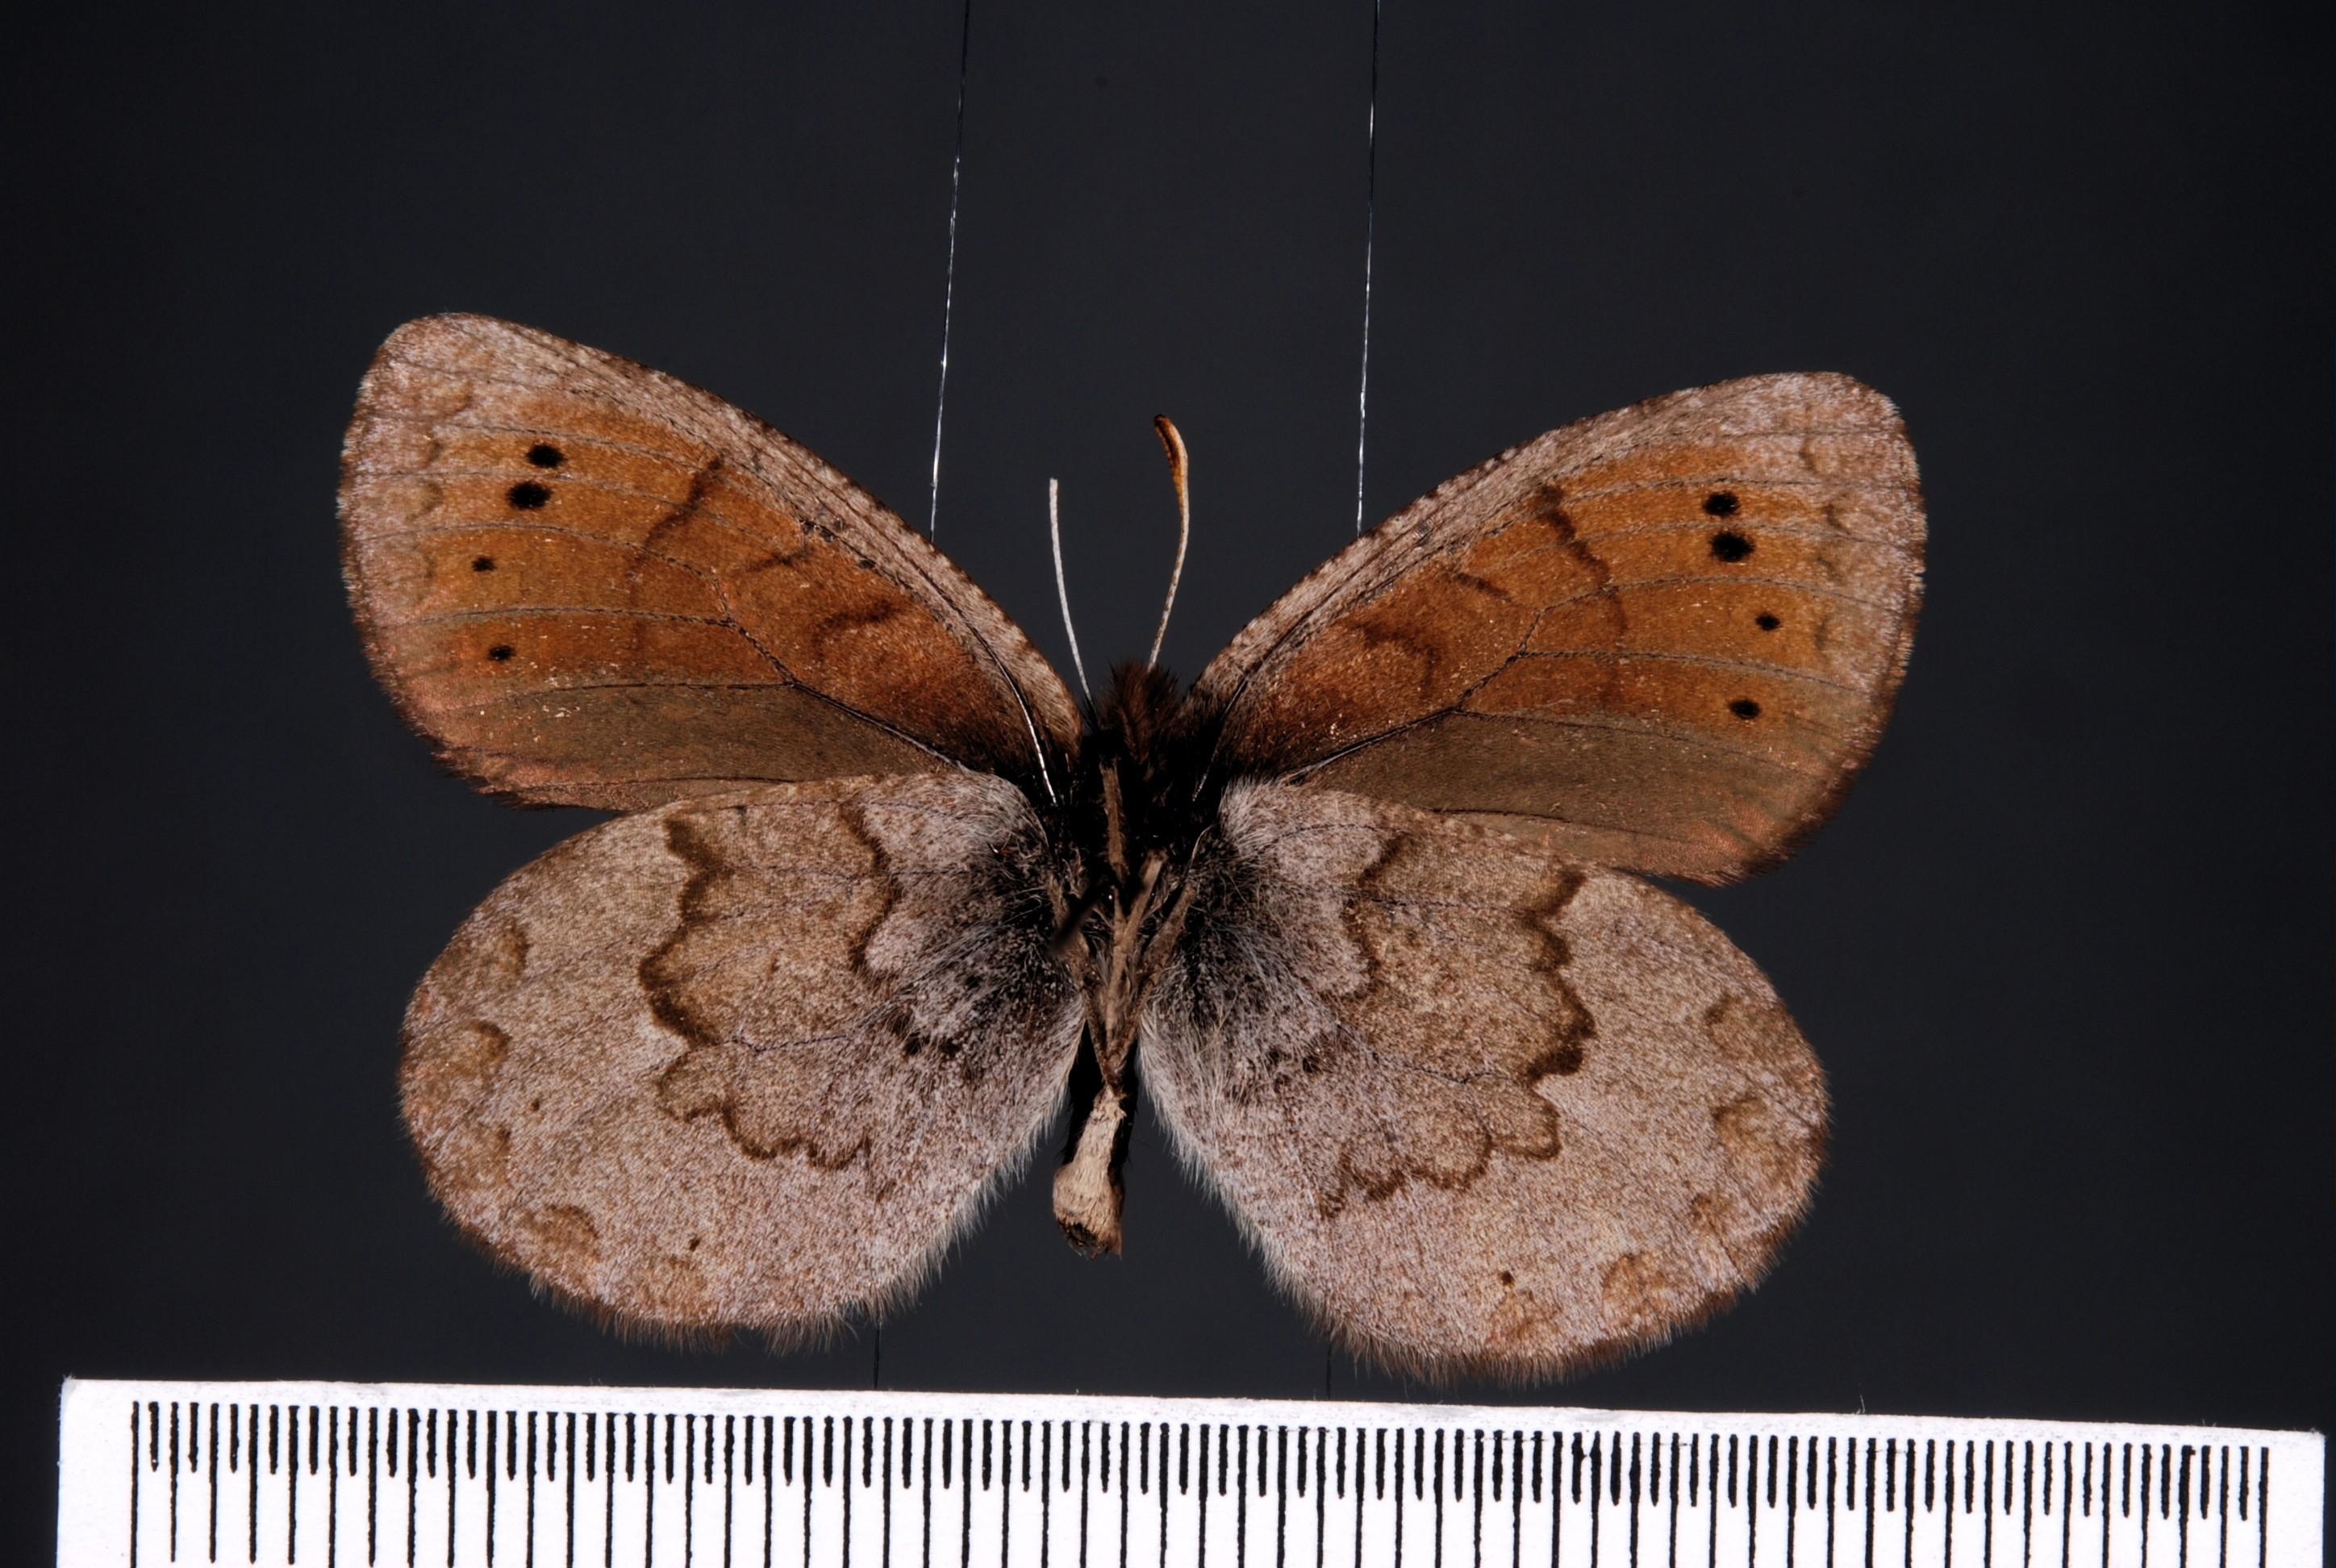spot: (654, 1197, 735, 1277), (497, 1064, 577, 1144), (486, 457, 565, 537), (444, 520, 523, 598), (1694, 509, 1773, 588), (1734, 583, 1811, 660), (509, 420, 581, 492), (1685, 464, 1757, 535), (1472, 1239, 1542, 1311), (467, 619, 537, 689), (1713, 674, 1783, 744)
